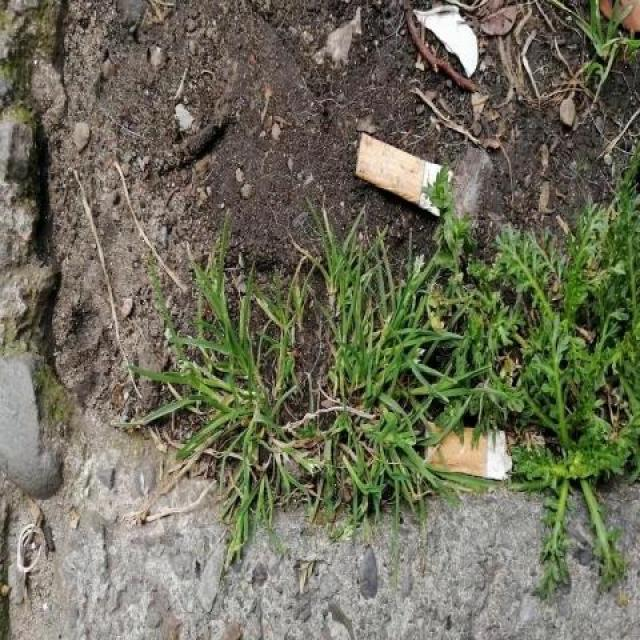non-organic waste: (352, 126, 457, 222), (422, 414, 521, 495)
